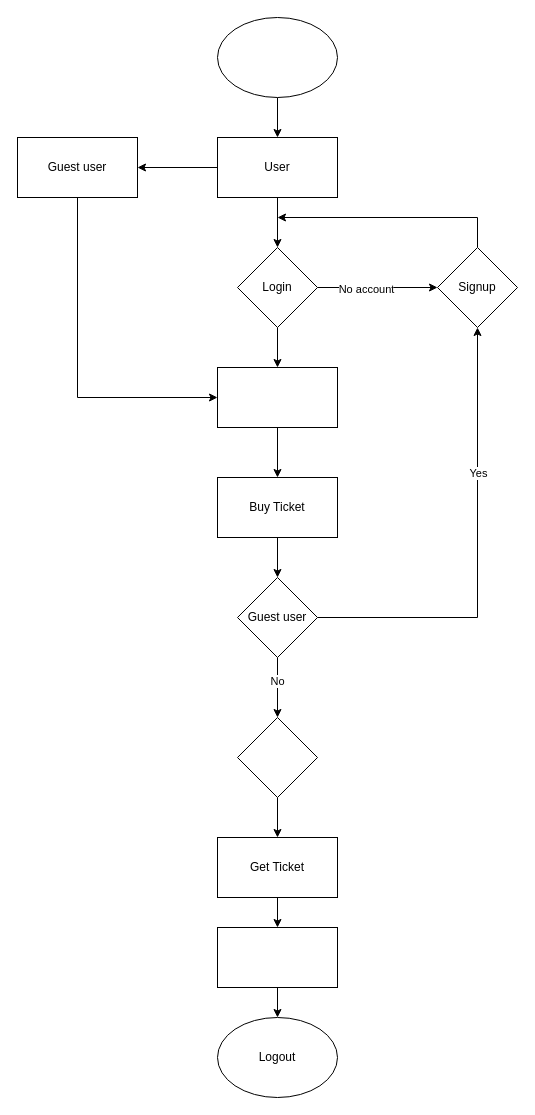
Some shapes in this 535 by 1115 pixel diagram are drawn without their labels. The centre of each missing label's shape, as x and y in pixels:
"Explore Events" goes at (277,397).
"Payment" goes at (277,757).
"Start" goes at (277,57).
"View/Download Ticket" goes at (277,957).
